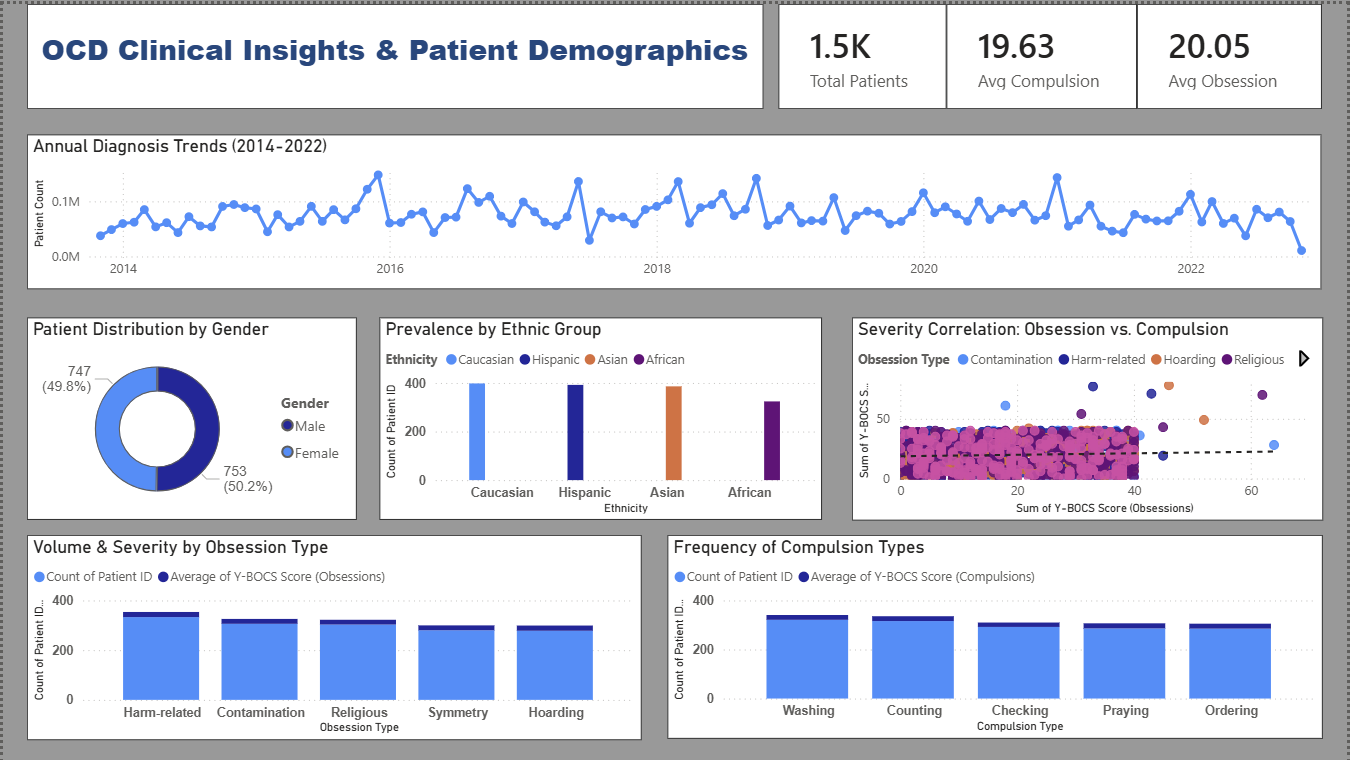

What the dashboard file says about the page in this screenshot:
{"tool":"powerbi","page":{"name":"Page 1","canvas":[1280,720],"ordinal":0},"visuals":[{"type":"textbox","box":[22.9,0,701.4,100],"z":0},{"type":"lineChart","title":"Annual Diagnosis Trends (2014-2022)","fields":{"Y":["Sum(Query1.Patient ID)"],"Category":["Query1.OCD Diagnosis Date.Variation.Date Hierarchy.Year","Query1.OCD Diagnosis Date.Variation.Date Hierarchy.Quarter","Query1.OCD Diagnosis Date.Variation.Date Hierarchy.Month"]},"box":[22.9,124.3,1232.9,147.1],"z":1000},{"type":"cardVisual","fields":{"Data":["CountNonNull(Query1.Patient ID)"]},"box":[738.6,0,160,100],"z":2000},{"type":"cardVisual","fields":{"Data":["Avg(Query1.Y-BOCS Score (Compulsions))"]},"box":[898.6,0,181.4,100],"z":3000},{"type":"cardVisual","fields":{"Data":["Avg(Query1.Y-BOCS Score (Obsessions))"]},"box":[1080,0,175.7,100],"z":4000},{"type":"donutChart","title":"Patient Distribution by Gender","fields":{"Category":["Query1.Gender"],"Y":["CountNonNull(Query1.Patient ID)"]},"box":[22.9,298.6,314.3,192.9],"z":5000},{"type":"clusteredColumnChart","title":"Prevalence by Ethnic Group","fields":{"Category":["Query1.Ethnicity"],"Y":["CountNonNull(Query1.Patient ID)"],"Series":["Query1.Ethnicity"]},"box":[358.6,298.6,421.4,192.9],"z":6000},{"type":"columnChart","title":"Frequency of Compulsion Types","fields":{"Y":["CountNonNull(Query1.Patient ID)","Avg(Query1.Y-BOCS Score (Compulsions))"],"Category":["Query1.Compulsion Type"]},"box":[632.5,506.2,623.8,193.8],"z":7000},{"type":"columnChart","title":"Volume & Severity by Obsession Type","fields":{"Category":["Query1.Obsession Type"],"Y":["CountNonNull(Query1.Patient ID)","Avg(Query1.Y-BOCS Score (Obsessions))"]},"box":[22.5,505,585,195],"z":8000},{"type":"scatterChart","title":"Severity Correlation: Obsession vs. Compulsion","fields":{"Category":["Query1.Patient ID"],"X":["Sum(Query1.Y-BOCS Score (Obsessions))"],"Y":["Sum(Query1.Y-BOCS Score (Compulsions))"],"Series":["Query1.Obsession Type"]},"box":[808.3,298.3,448.3,193.3],"z":9000}]}

Visuals, with their boxes in screenshot pixels (x1, y1, x2, y2), scaled from the page's 1280x720 canvas onto the 1350x760 screenshot:
textbox: locate(24, 0, 764, 106)
"Annual Diagnosis Trends (2014-2022)" lineChart: locate(24, 131, 1324, 286)
cardVisual - CountNonNull(Query1.Patient ID): locate(779, 0, 948, 106)
cardVisual - Avg(Query1.Y-BOCS Score (Compulsions)): locate(948, 0, 1139, 106)
cardVisual - Avg(Query1.Y-BOCS Score (Obsessions)): locate(1139, 0, 1324, 106)
"Patient Distribution by Gender" donutChart: locate(24, 315, 356, 519)
"Prevalence by Ethnic Group" clusteredColumnChart: locate(378, 315, 823, 519)
"Frequency of Compulsion Types" columnChart: locate(667, 534, 1325, 739)
"Volume & Severity by Obsession Type" columnChart: locate(24, 533, 641, 739)
"Severity Correlation: Obsession vs. Compulsion" scatterChart: locate(853, 315, 1325, 519)
